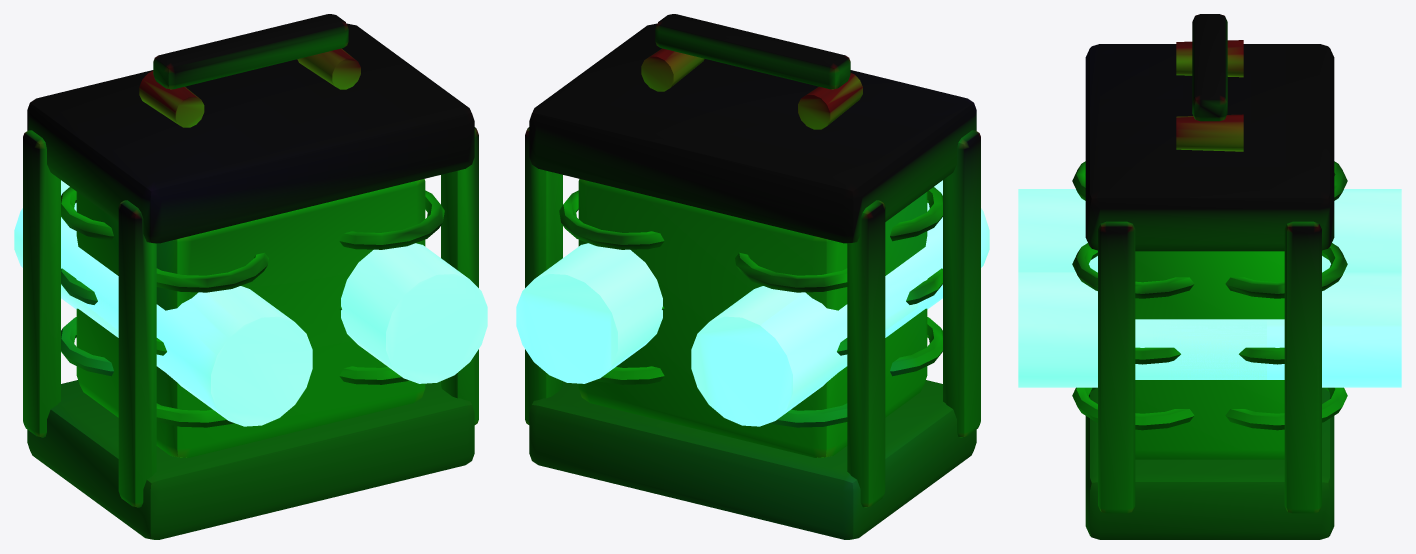
File: hero_battery_pack.glb
3 renders of one model, left to right at view 1: azimuth 30°, elevation 25°; view 2: azimuth 150°, elevation 25°; view 3: azimuth 270°, elevation 25°, orthographic. The views are drawn at different scales.
Parts seen in each view (by area): view 1: HeroBatteryPack; view 2: HeroBatteryPack; view 3: HeroBatteryPack.
Part boxes in pixels (box(x1,y1,x2,y2)): HeroBatteryPack: box(14, 14, 487, 539); HeroBatteryPack: box(516, 14, 989, 539); HeroBatteryPack: box(1018, 14, 1401, 539).
Size of the model in its own units: 0.378 by 0.439 by 0.37.
